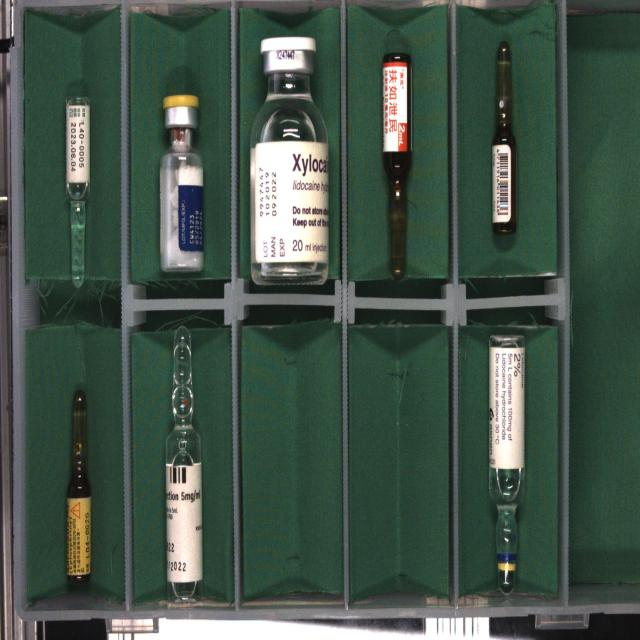Vials: (250, 37, 329, 284), (160, 94, 204, 273)
